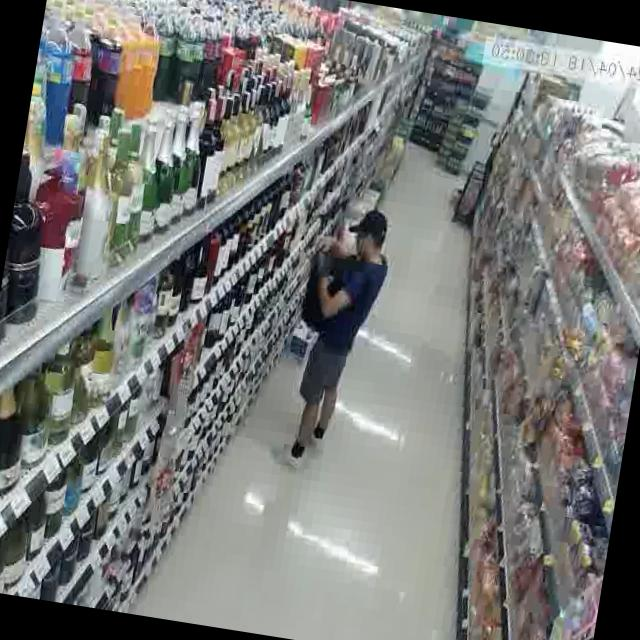shoplifting: (255, 186, 404, 498)
